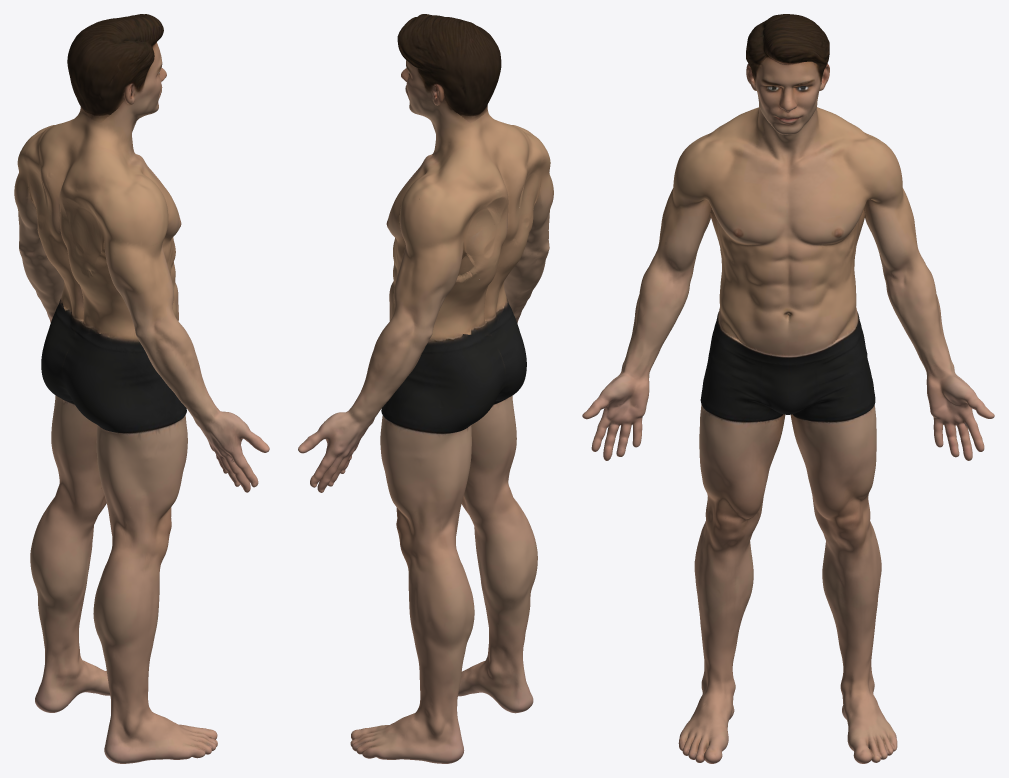
Rendered from body-v15.glb.
The picture shows the model from 3 angles, left to right: view 1: azimuth 30°, elevation 25°; view 2: azimuth 150°, elevation 25°; view 3: azimuth 270°, elevation 25°; orthographic projection.
Visible parts, largest first — view 1: tripo_node_3773f2f5-c201-4bd6-905f-09da226c5b32; view 2: tripo_node_3773f2f5-c201-4bd6-905f-09da226c5b32; view 3: tripo_node_3773f2f5-c201-4bd6-905f-09da226c5b32.
Boxes of the visible parts, x1,y1,x2,y2 form: tripo_node_3773f2f5-c201-4bd6-905f-09da226c5b32: (14, 14, 269, 763); tripo_node_3773f2f5-c201-4bd6-905f-09da226c5b32: (298, 14, 553, 763); tripo_node_3773f2f5-c201-4bd6-905f-09da226c5b32: (582, 14, 994, 763).
Size of the model in its own units: 0.3731 by 2 by 1.04.
1 material, 1 textured.
